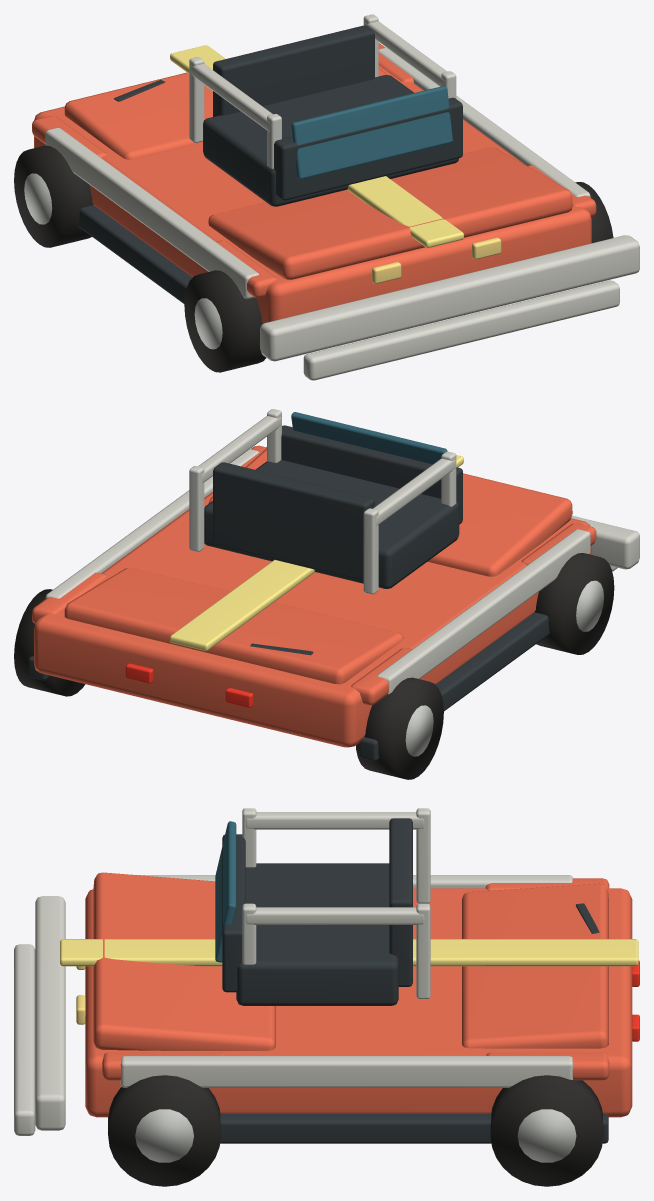
Rendered from derby-car.glb.
3 renders of one model, top to bottom at view 1: azimuth 30°, elevation 25°; view 2: azimuth 150°, elevation 25°; view 3: azimuth 270°, elevation 25°, orthographic. The views are drawn at different scales.
Visible parts, largest first — view 1: Car_Chassis, Car_Hood_Wedge, Car_Front_Ram, Car_Front_Ram_Lower, Car_Windshield_Glass, Car_Seat_Back, Car_Cabin_Base, Car_Trunk_Wedge, Car_Side_Rail_-1.8, Car_Dash, Car_Wheel_FL, Car_Wheel_RL (+13 smaller); view 2: Car_Chassis, Car_Trunk_Wedge, Car_Seat_Back, Car_Hood_Wedge, Car_Cabin_Base, Car_Side_Rail_-1.8, Car_Wheel_RL, Car_Dash, Car_Wheel_FL, Car_Stripe, Car_Side_Rocker_-1.8, Car_Windshield_Glass (+14 smaller); view 3: Car_Chassis, Car_Hood_Wedge, Car_Trunk_Wedge, Car_Cabin_Base, Car_Side_Rail_+1.8, Car_Stripe, Car_Side_Rocker_+1.8, Car_Wheel_RR, Car_Wheel_FR, Car_Front_Ram, Car_Front_Ram_Lower, Car_Seat_Back (+14 smaller).
Part boxes in pixels (x1=…): Car_Chassis: x1=34, y1=65, x2=591, y2=323; Car_Hood_Wedge: x1=208, y1=147, x2=572, y2=279; Car_Front_Ram: x1=260, y1=235, x2=639, y2=361; Car_Front_Ram_Lower: x1=303, y1=280, x2=619, y2=380; Car_Windshield_Glass: x1=291, y1=86, x2=452, y2=179; Car_Seat_Back: x1=213, y1=25, x2=374, y2=116; Car_Cabin_Base: x1=203, y1=75, x2=459, y2=206; Car_Trunk_Wedge: x1=64, y1=68, x2=386, y2=159; Car_Side_Rail_-1.8: x1=45, y1=128, x2=258, y2=298; Car_Dash: x1=274, y1=97, x2=462, y2=200; Car_Wheel_FL: x1=184, y1=270, x2=266, y2=372; Car_Wheel_RL: x1=14, y1=145, x2=93, y2=247; Car_Chassis: x1=34, y1=492, x2=591, y2=747; Car_Trunk_Wedge: x1=64, y1=567, x2=403, y2=684; Car_Seat_Back: x1=213, y1=462, x2=374, y2=581; Car_Hood_Wedge: x1=208, y1=448, x2=572, y2=576; Car_Cabin_Base: x1=204, y1=460, x2=459, y2=588; Car_Side_Rail_-1.8: x1=377, y1=529, x2=590, y2=694; Car_Wheel_RL: x1=356, y1=677, x2=443, y2=779; Car_Dash: x1=281, y1=425, x2=462, y2=524; Car_Wheel_FL: x1=535, y1=553, x2=614, y2=654; Car_Stripe: x1=170, y1=455, x2=463, y2=650; Car_Side_Rocker_-1.8: x1=359, y1=612, x2=549, y2=761; Car_Windshield_Glass: x1=291, y1=412, x2=447, y2=464; Car_Chassis: x1=85, y1=888, x2=632, y2=1117; Car_Hood_Wedge: x1=93, y1=872, x2=275, y2=1050; Car_Trunk_Wedge: x1=462, y1=883, x2=608, y2=1048; Car_Cabin_Base: x1=236, y1=863, x2=398, y2=1005; Car_Side_Rail_+1.8: x1=120, y1=1056, x2=573, y2=1087; Car_Stripe: x1=60, y1=939, x2=638, y2=966; Car_Side_Rocker_+1.8: x1=220, y1=1114, x2=608, y2=1143; Car_Wheel_RR: x1=490, y1=1075, x2=603, y2=1186; Car_Wheel_FR: x1=108, y1=1075, x2=220, y2=1186; Car_Front_Ram: x1=35, y1=896, x2=65, y2=1130; Car_Front_Ram_Lower: x1=14, y1=944, x2=35, y2=1135; Car_Seat_Back: x1=389, y1=818, x2=412, y2=986.
Bounding box in the file's own units: 4.22 × 2.11 × 5.32.
